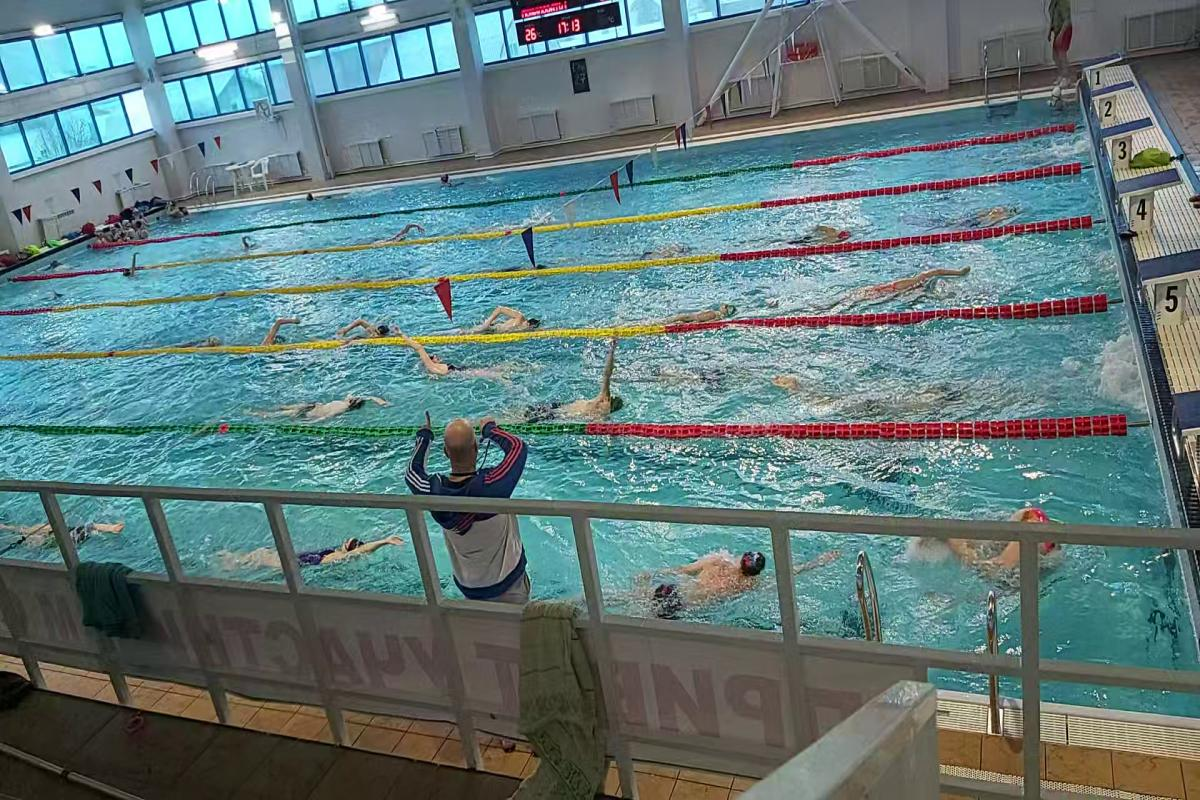swimmer: (214, 512, 407, 578), (627, 540, 780, 619), (942, 508, 1053, 586), (776, 375, 986, 415), (0, 496, 121, 557), (249, 381, 402, 422), (404, 342, 518, 393), (829, 268, 994, 292), (463, 297, 558, 335), (623, 300, 760, 324), (329, 309, 400, 344), (224, 318, 324, 342), (926, 204, 1023, 225), (788, 222, 861, 248), (628, 241, 720, 258)
